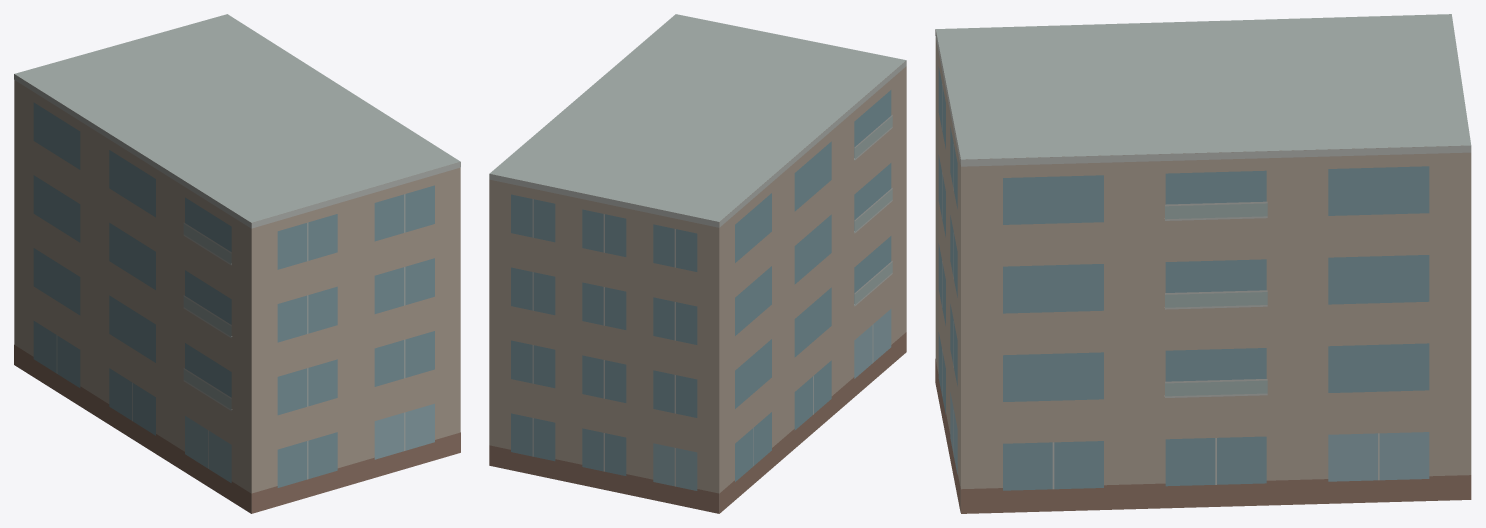
The model's file is survey-upis-33031226.glb.
3 renders of one model, left to right at view 1: azimuth 30°, elevation 25°; view 2: azimuth 150°, elevation 25°; view 3: azimuth 270°, elevation 25°, orthographic. The views are drawn at different scales.
Parts seen in each view (by area): view 1: survey-upis-33031226.tmp; view 2: survey-upis-33031226.tmp; view 3: survey-upis-33031226.tmp.
Boxes of the visible parts, bbox=[...] form: survey-upis-33031226.tmp: bbox=[14, 14, 460, 513]; survey-upis-33031226.tmp: bbox=[489, 14, 906, 513]; survey-upis-33031226.tmp: bbox=[935, 14, 1471, 513].
Bounding box in the file's own units: 10.76 × 12.2 × 16.73.
